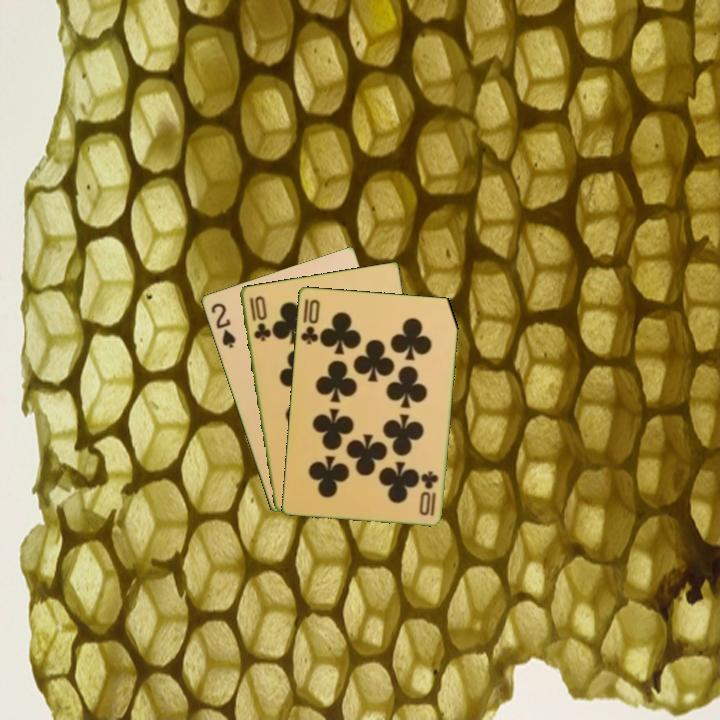10c: (245, 292, 272, 344), (297, 295, 322, 347), (416, 467, 441, 519)
2s: (207, 299, 238, 351)
